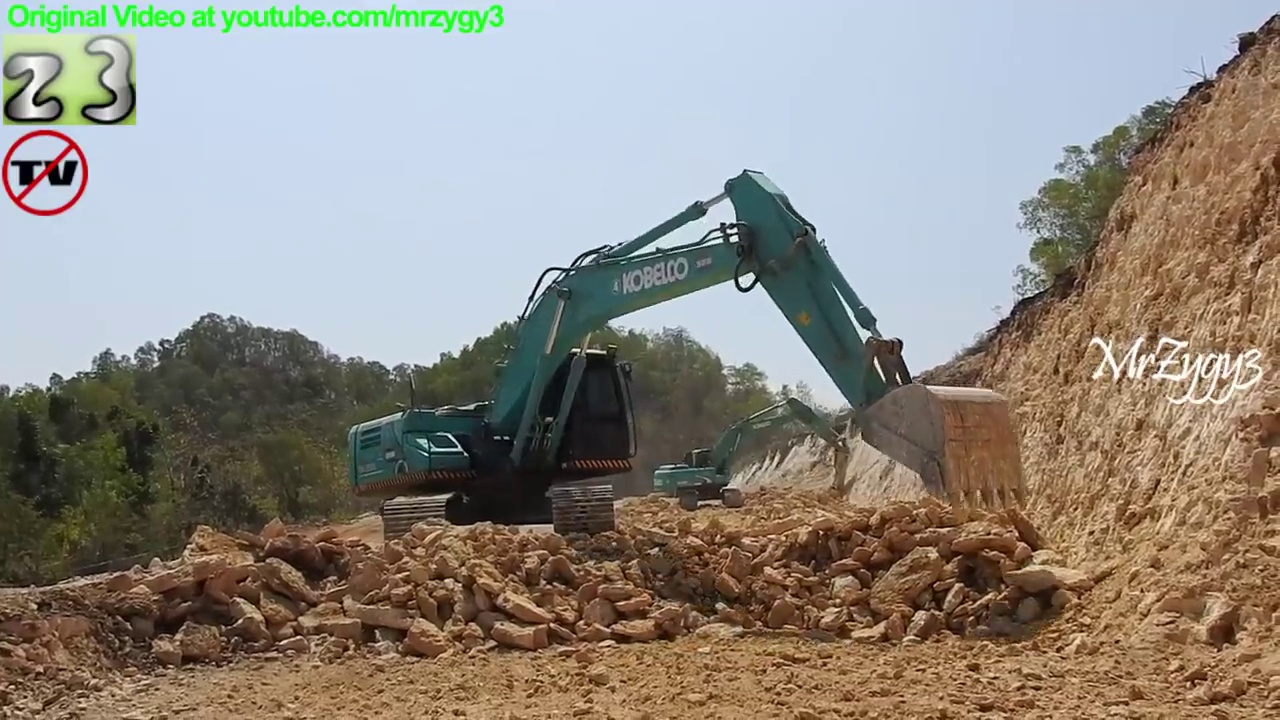excavator: (341, 165, 1036, 554)
excavator breaker: (648, 395, 854, 514)
